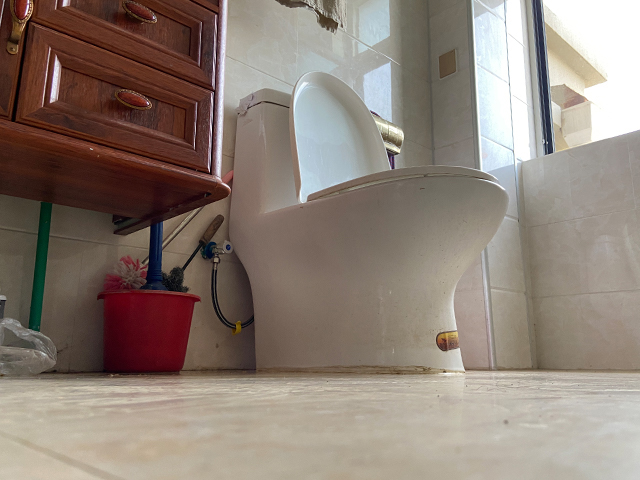closestool: (225, 71, 511, 377)
